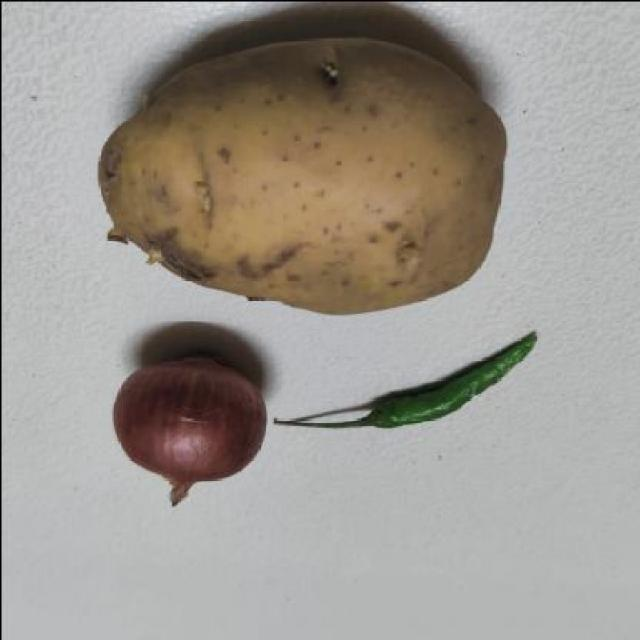Green Chili: (274, 320, 611, 443)
Onion: (105, 326, 272, 523)
Potato: (77, 21, 523, 314)
